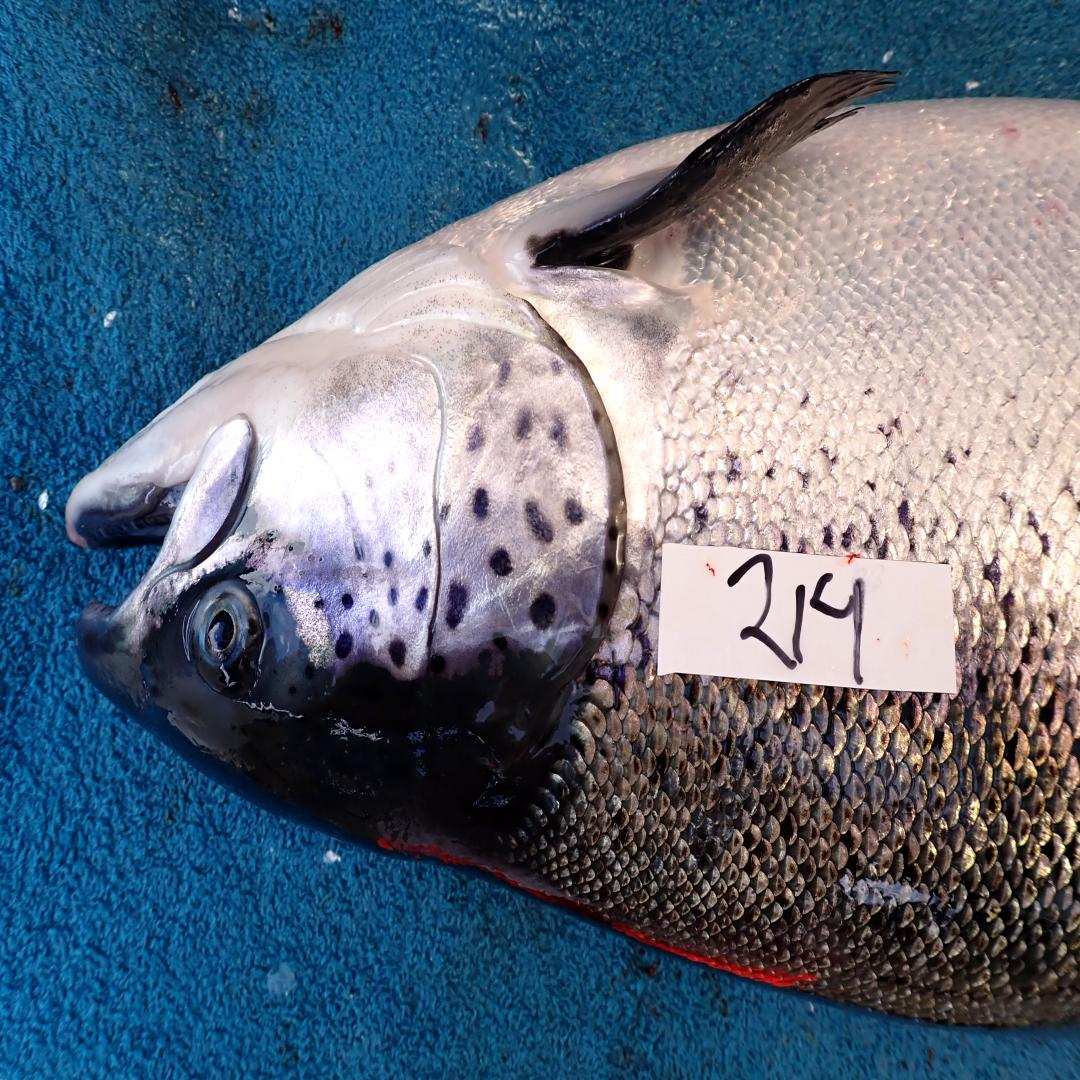roi: (252, 241, 624, 679)
